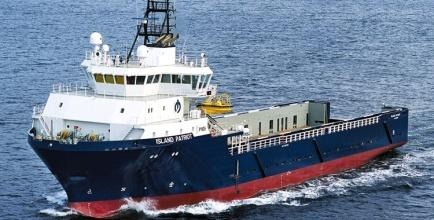otherboat: (26, 1, 409, 217)
